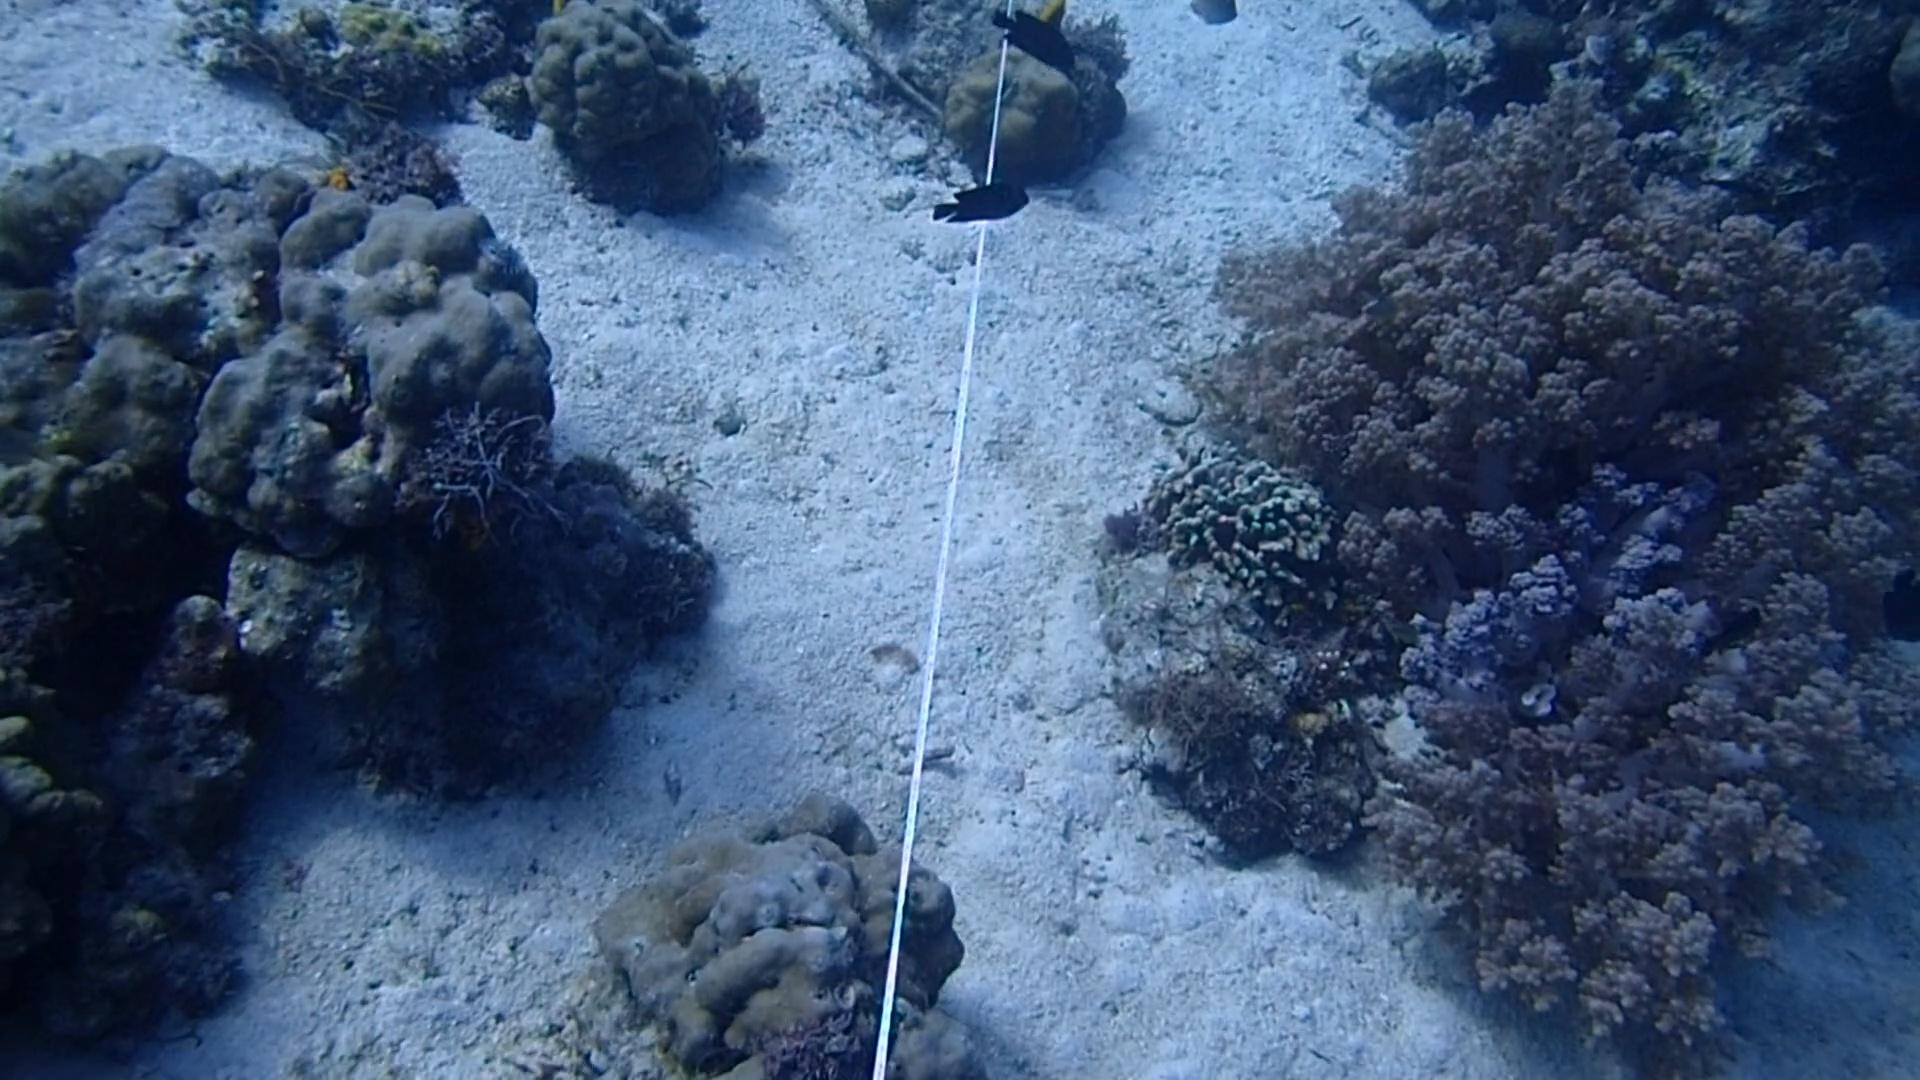Dark Fish: (982, 3, 1085, 86), (930, 178, 1043, 232), (1692, 599, 1768, 663), (1869, 564, 1920, 651)
